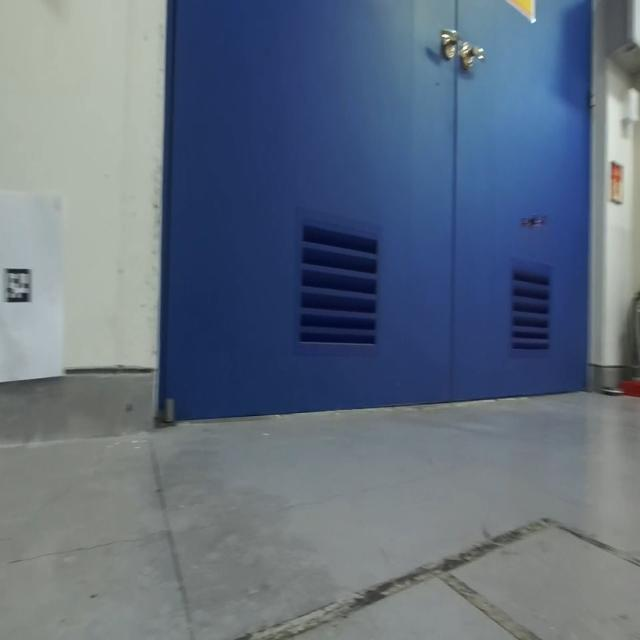crazyflie: (519, 207, 548, 236)
